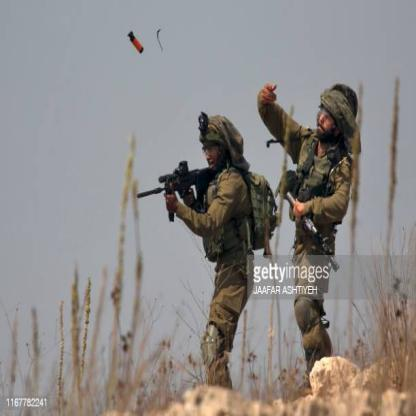Grenade: (127, 30, 144, 55)
Gun: (137, 159, 213, 223), (283, 192, 339, 272)
